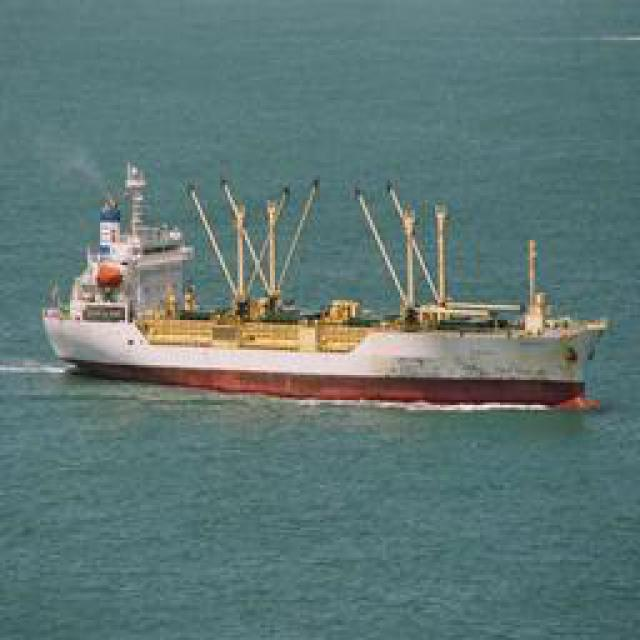Ship: (49, 155, 624, 410)
